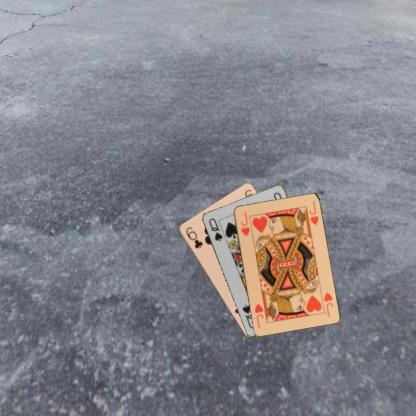6c: (183, 224, 204, 250)
Jh: (321, 289, 334, 318), (238, 210, 251, 237)
Qs: (206, 216, 224, 243)
